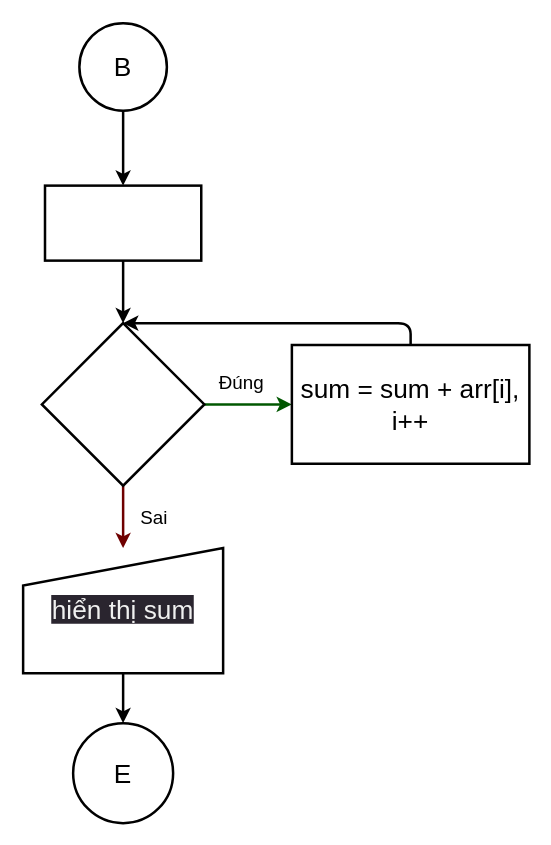
This 551x845 diagram has some shape labels left out. The shapes that lost their labels are listed below. From the top down, each one's centre as x and y in pixels, then its label:
point (122, 222): sum = 0, i=0
point (122, 403): i<n
